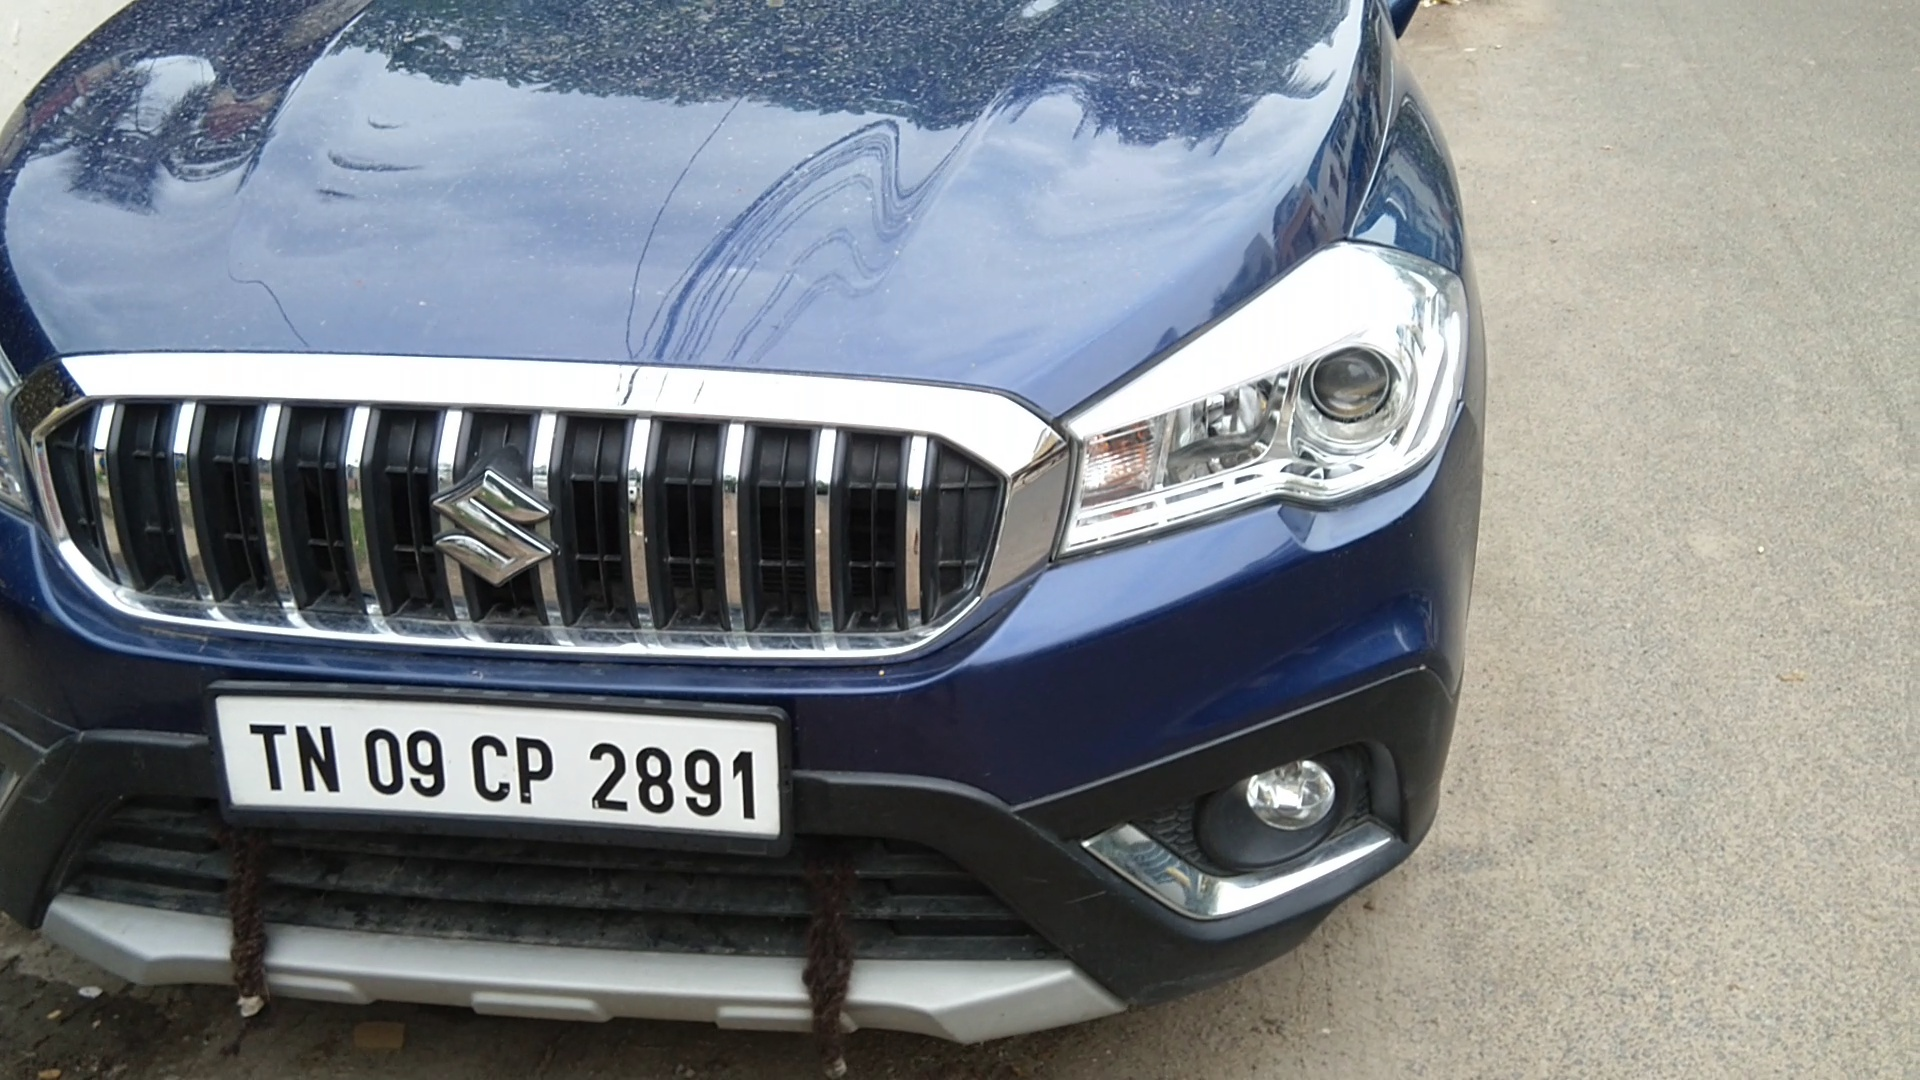front_grill: (15, 331, 1062, 696)
headlamp: (1059, 228, 1480, 587)
